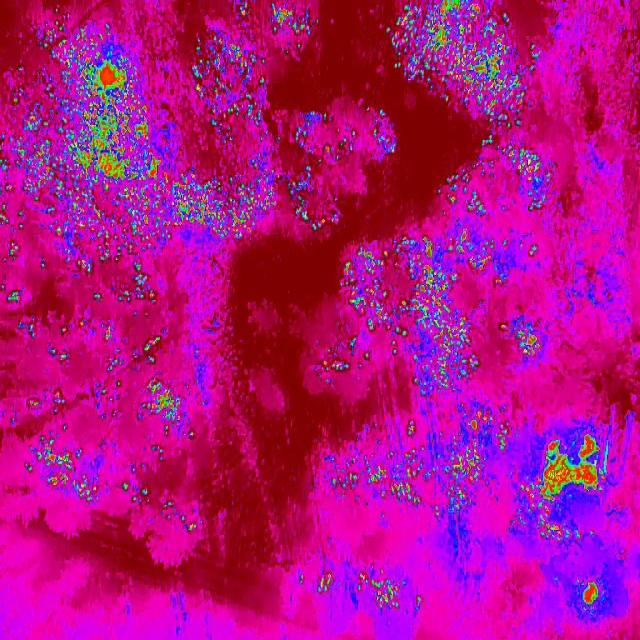fire: (0, 26, 184, 270), (337, 224, 500, 393), (522, 418, 634, 620), (388, 0, 544, 130), (326, 406, 524, 508), (195, 34, 273, 240), (292, 111, 396, 234), (313, 560, 421, 632), (23, 432, 108, 507), (234, 0, 322, 56), (502, 140, 558, 216), (142, 378, 193, 442), (496, 317, 552, 371), (119, 271, 157, 308)
